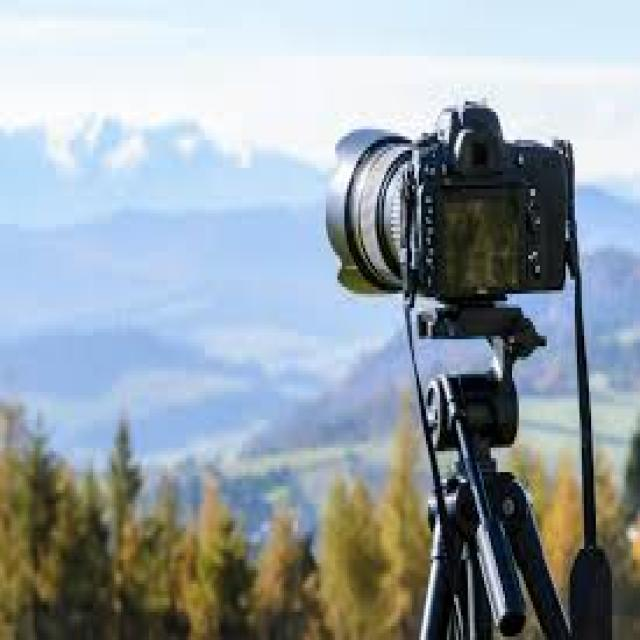camera: (330, 103, 579, 352)
